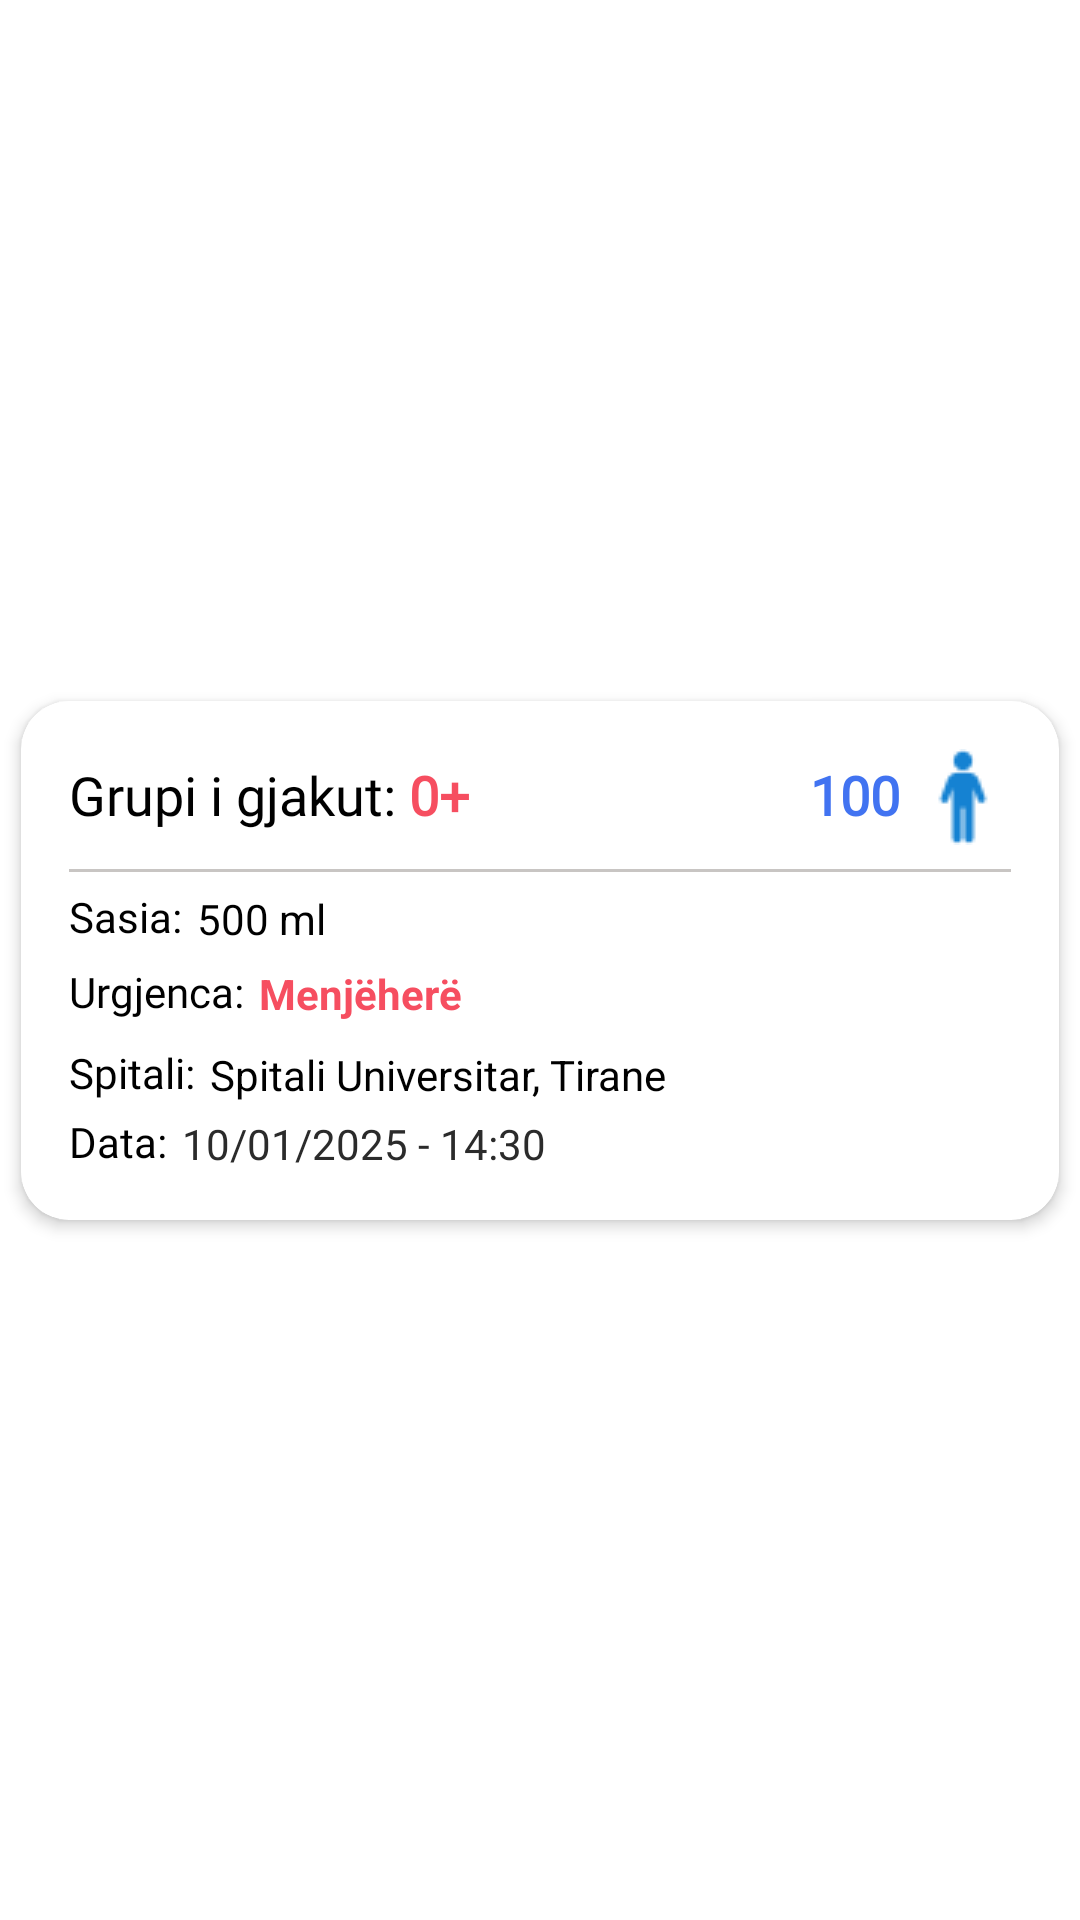

Where icons sit on this 1080 x 1920 app screen, as [left=x1, top=y1, right=x2, bottom=y2]:
person: [left=938, top=749, right=988, bottom=843]
